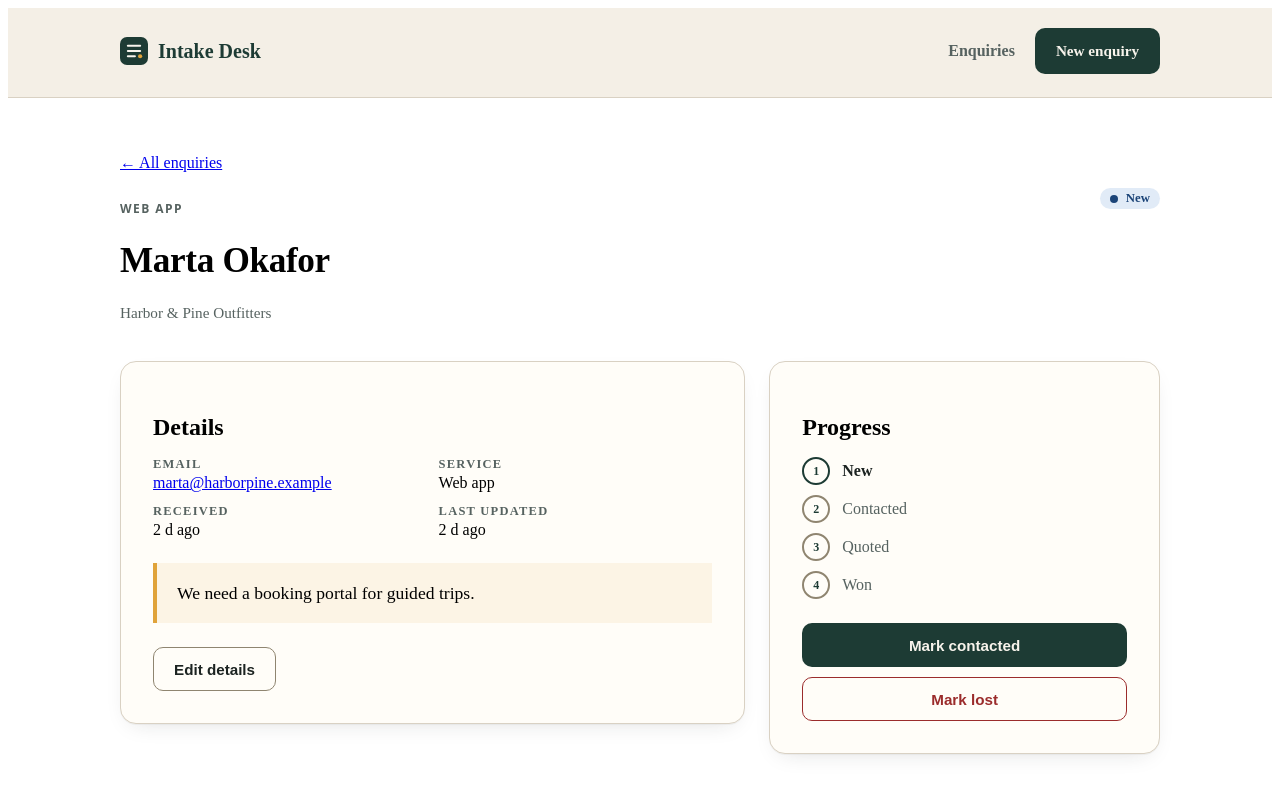
enquiry detail › moves the enquiry on and confirms it
Click the button "Mark contacted" at point(965, 645), box [802, 623, 1127, 667]
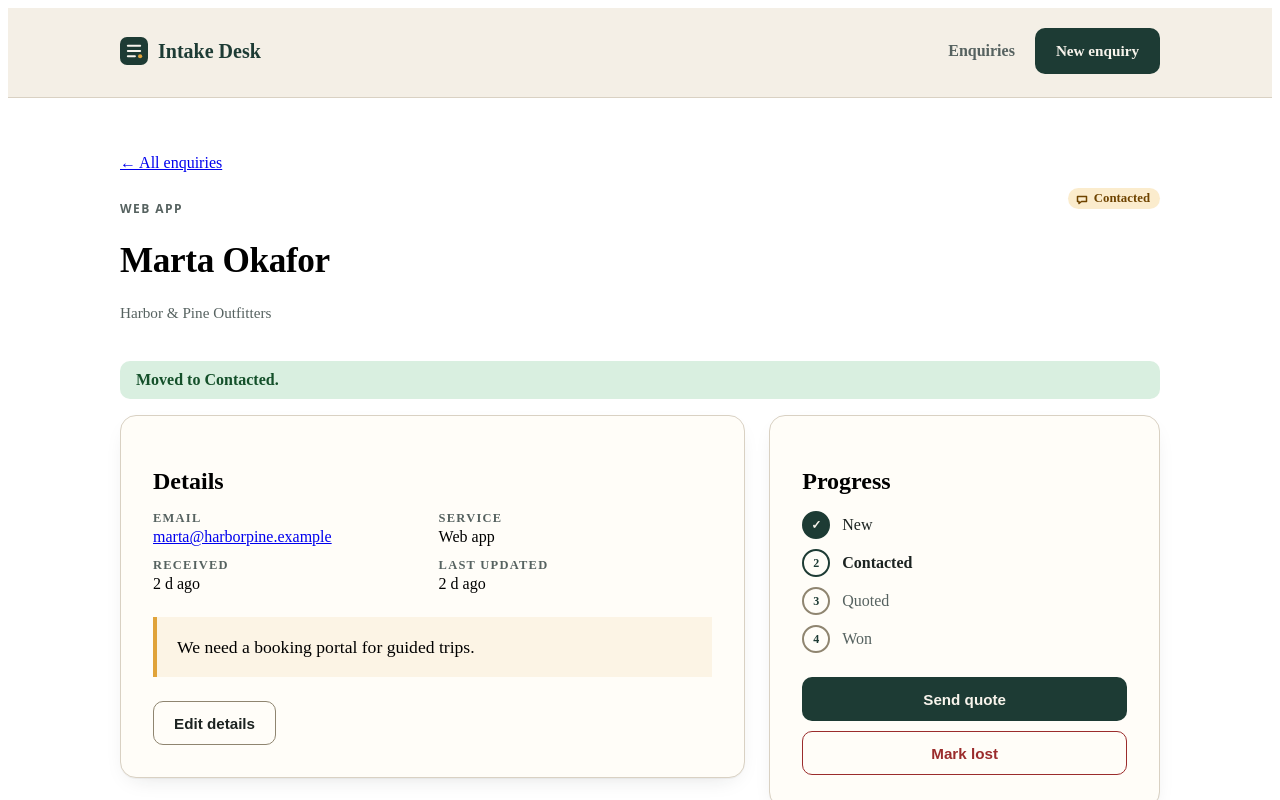
Expected: the text "Moved to Contacted." is shown, [120, 361, 1160, 399]
